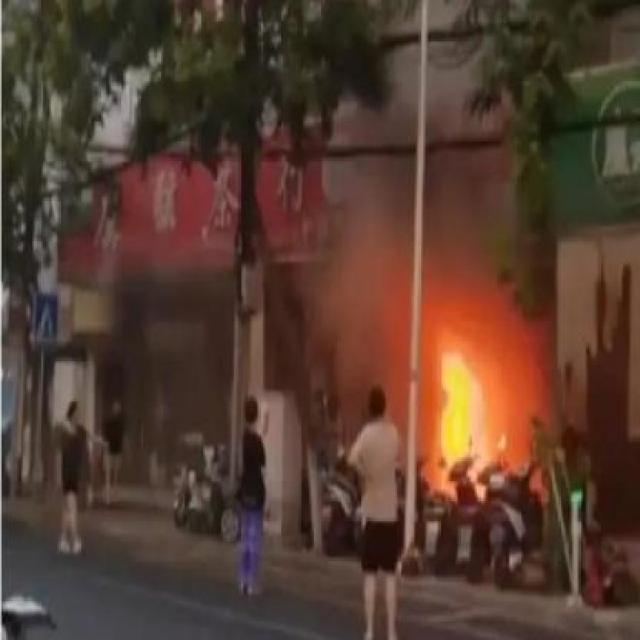Fire: (440, 352, 477, 462)
Smoke: (328, 111, 410, 418)
